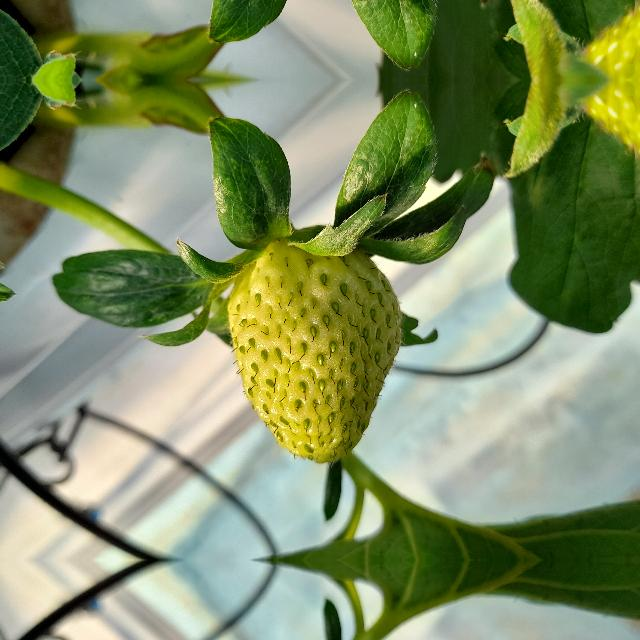Health_25: (227, 237, 403, 465)
